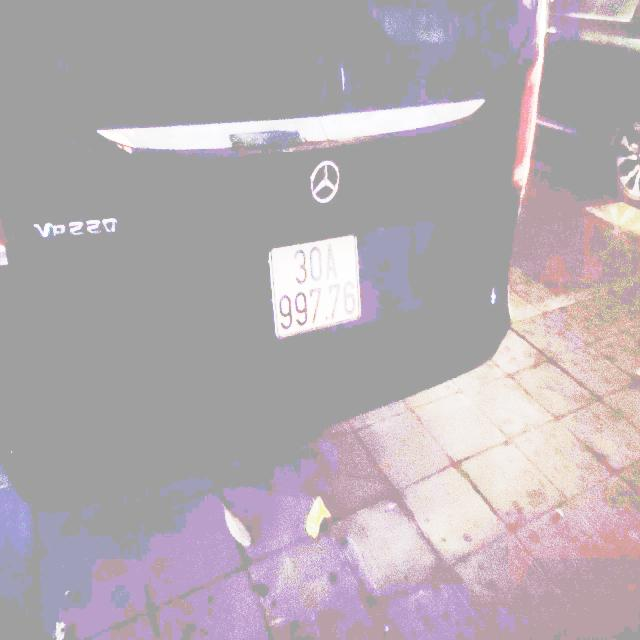license_plate: (270, 233, 365, 339)
